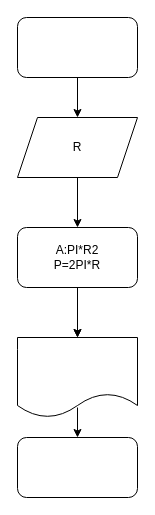
Some shapes in this 155 by 515 pixel diagram are drawn without their labels. The shapes that lost their labels are listed below. From the top down, each one's centre as x and y in pixels, then its label:
[77,47]: INICIO
[77,377]: A*P
